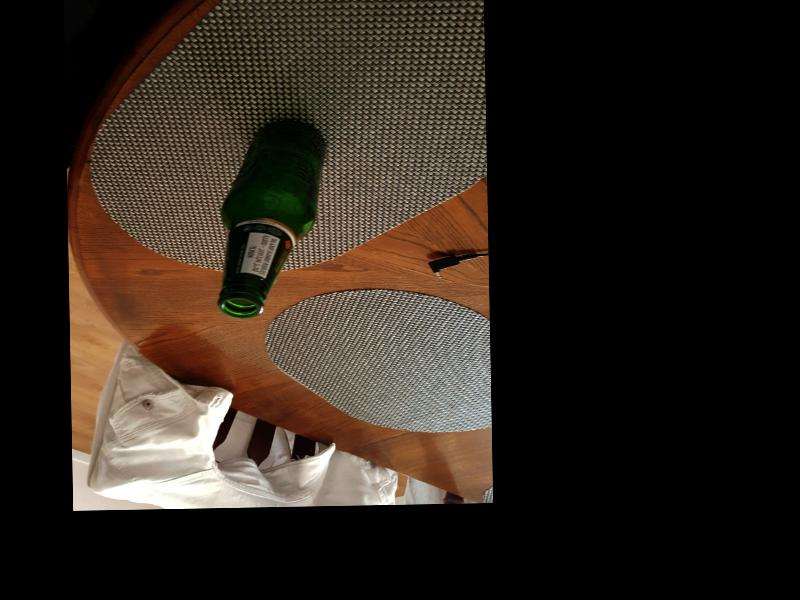Beer: (222, 119, 329, 316)
